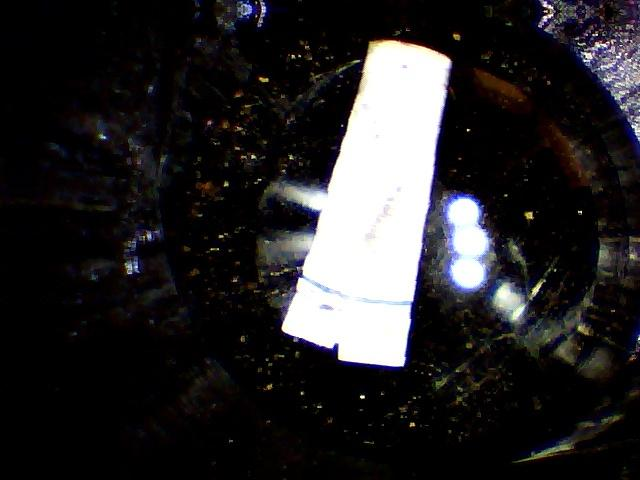megot: (257, 31, 480, 369)
